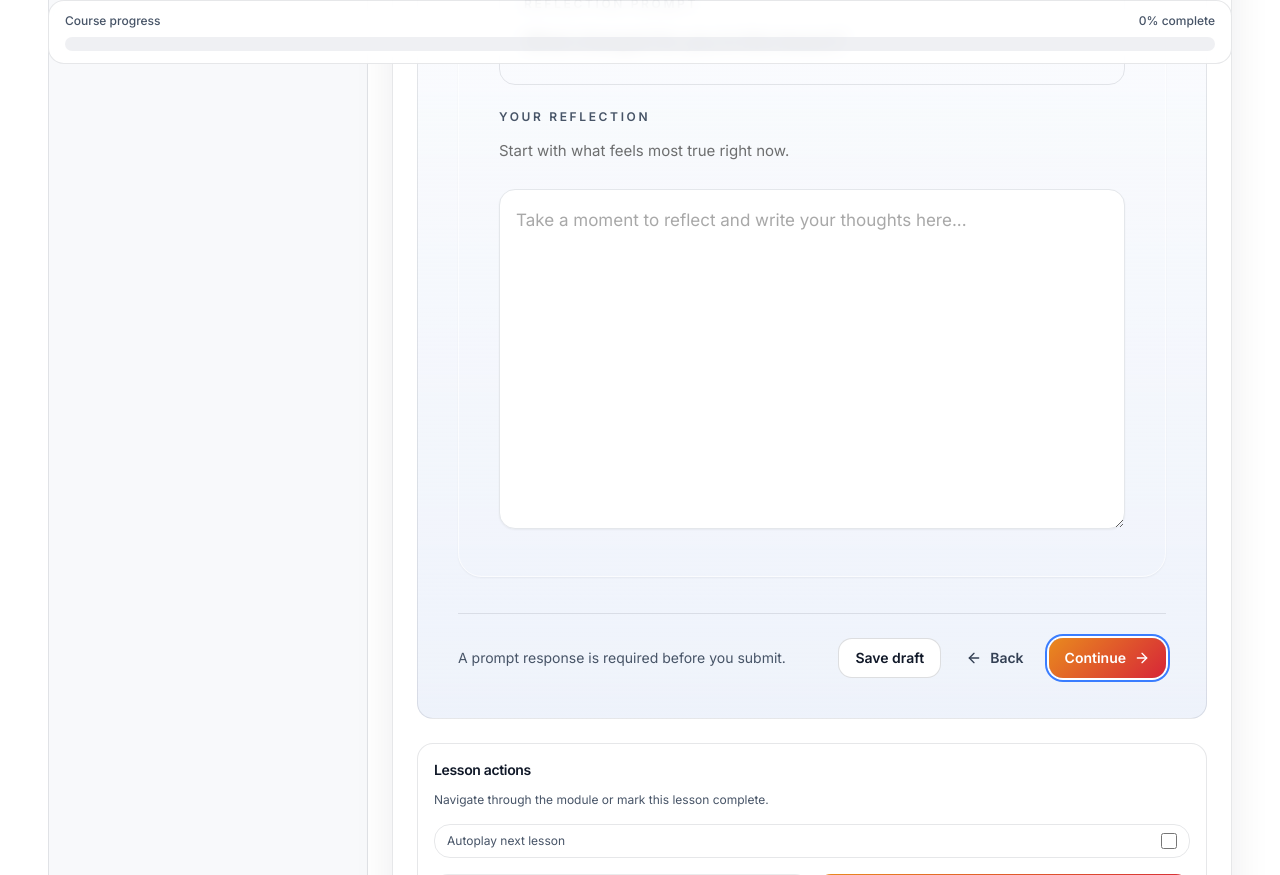
Test case: CoursePlayer progress integration › submits reflection responses, marks the lesson complete, and advances to the next lesson
Earlier steps of the test are not shown.
(page scrolled)
Type "I need to slow down." into the text box with placeholder "Take a moment to reflect and write your thoughts here...". click: (812,358)
box: [499,188,1125,528]
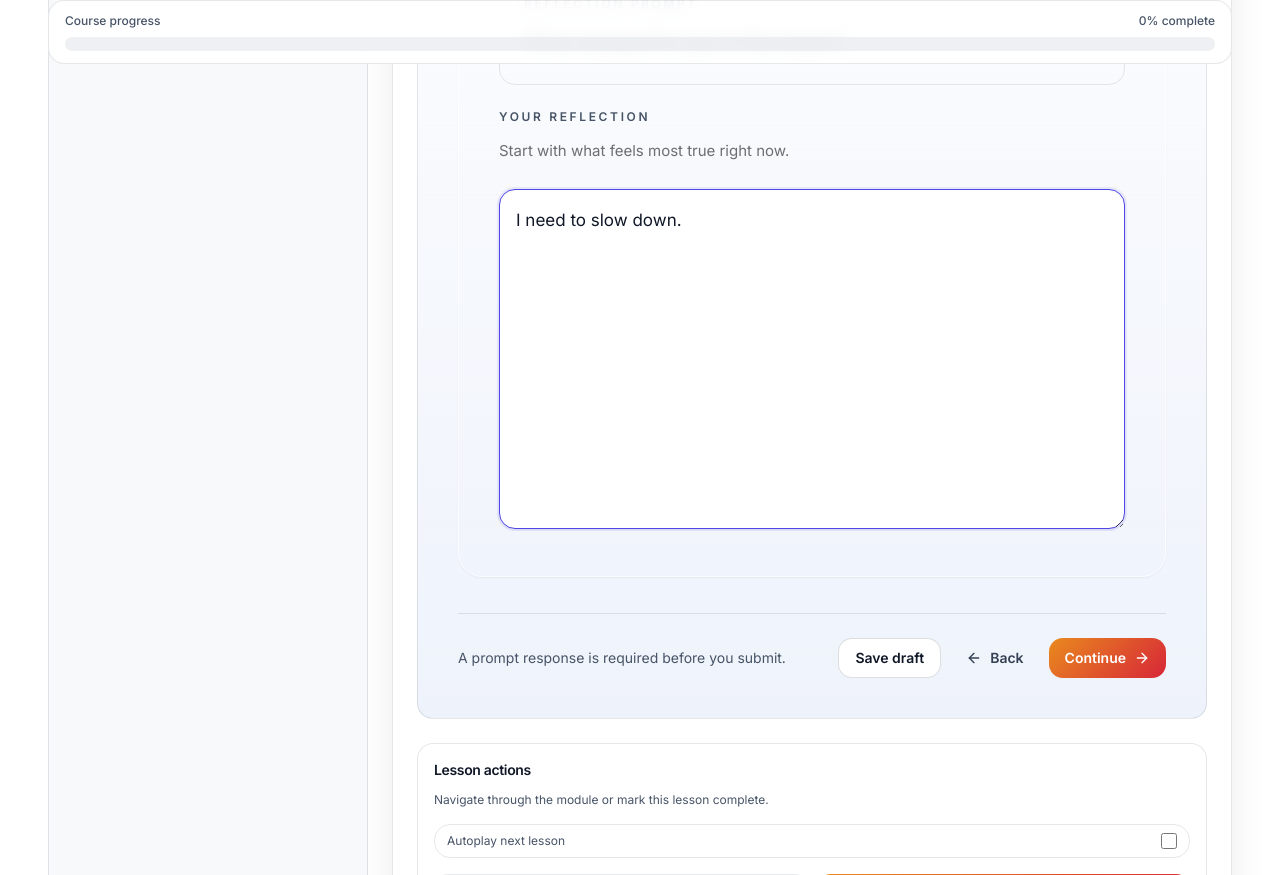
Click the button "Continue". click: (1107,658)
box: [1049,638,1166,678]
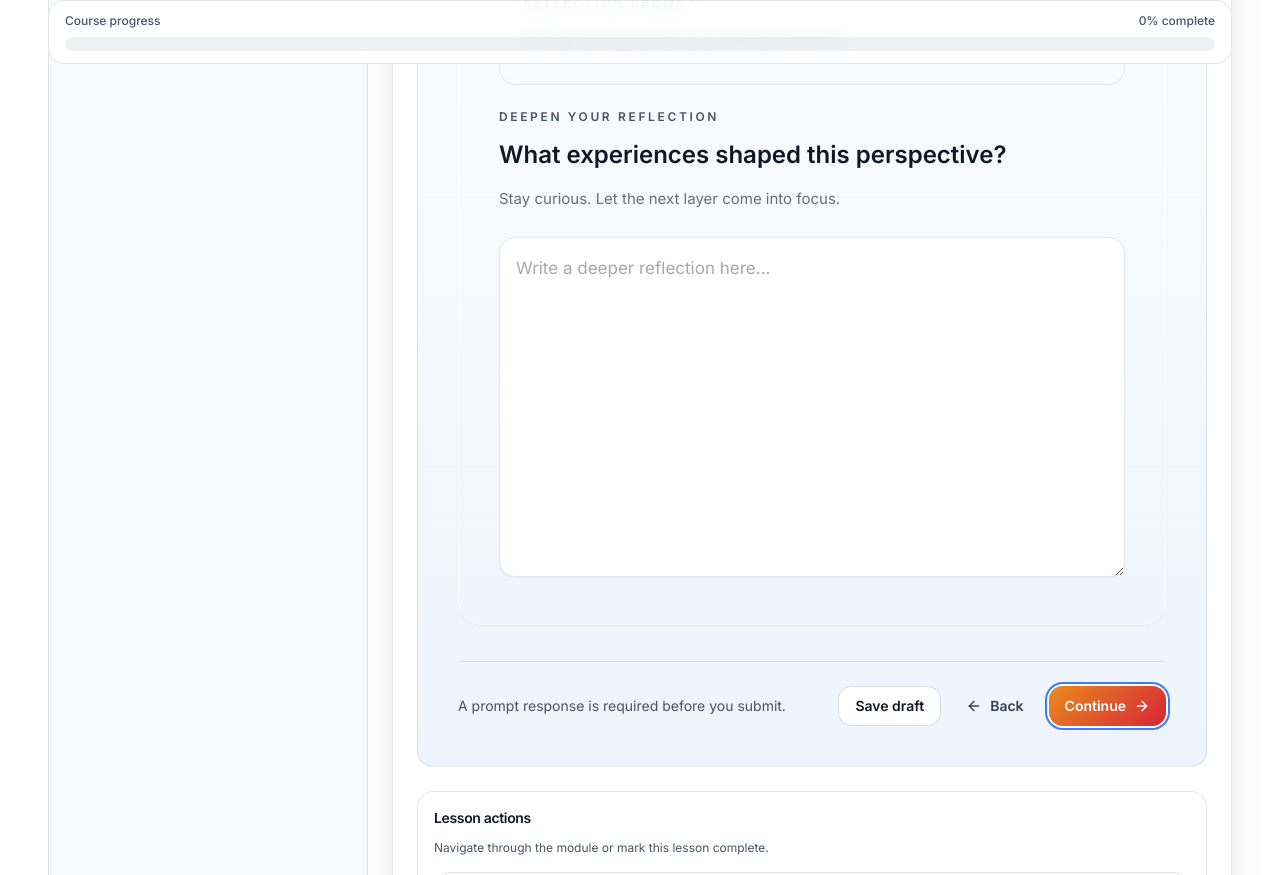
Click the button "Continue". click: (1107,706)
box: [1049,686,1166,726]
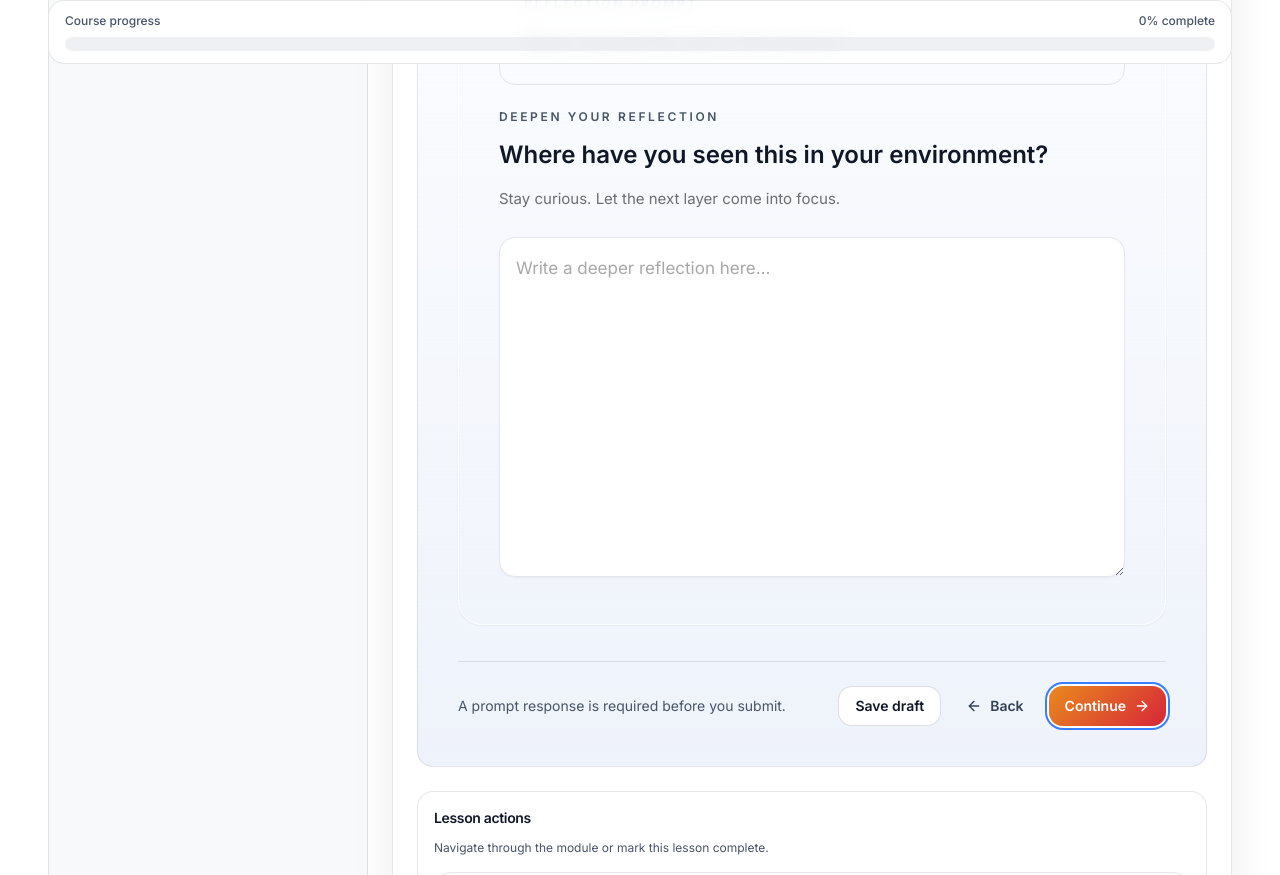
Click the button "Continue". click: (1107,706)
box: [1049,686,1166,726]
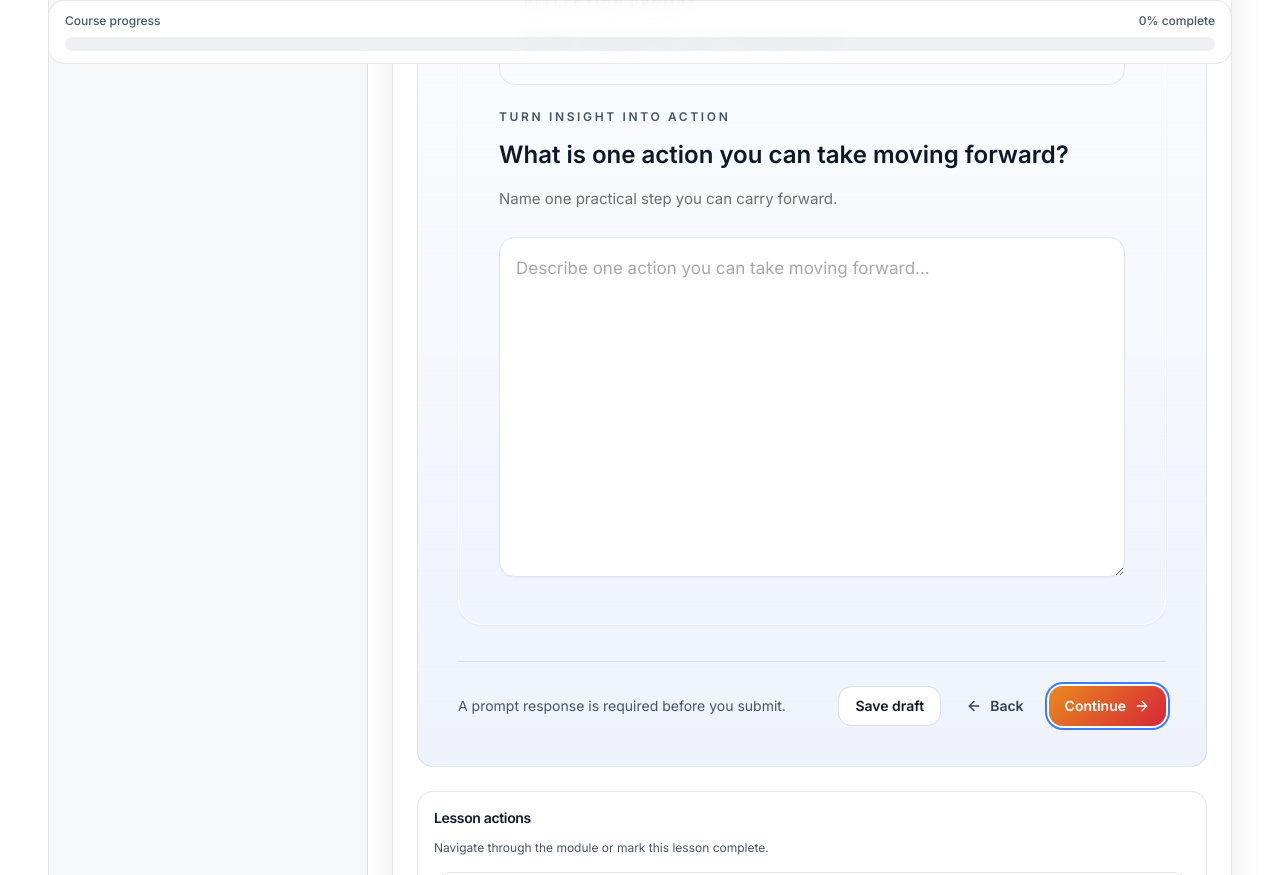
Click the button "Continue". click: (1107,706)
box: [1049,686,1166,726]
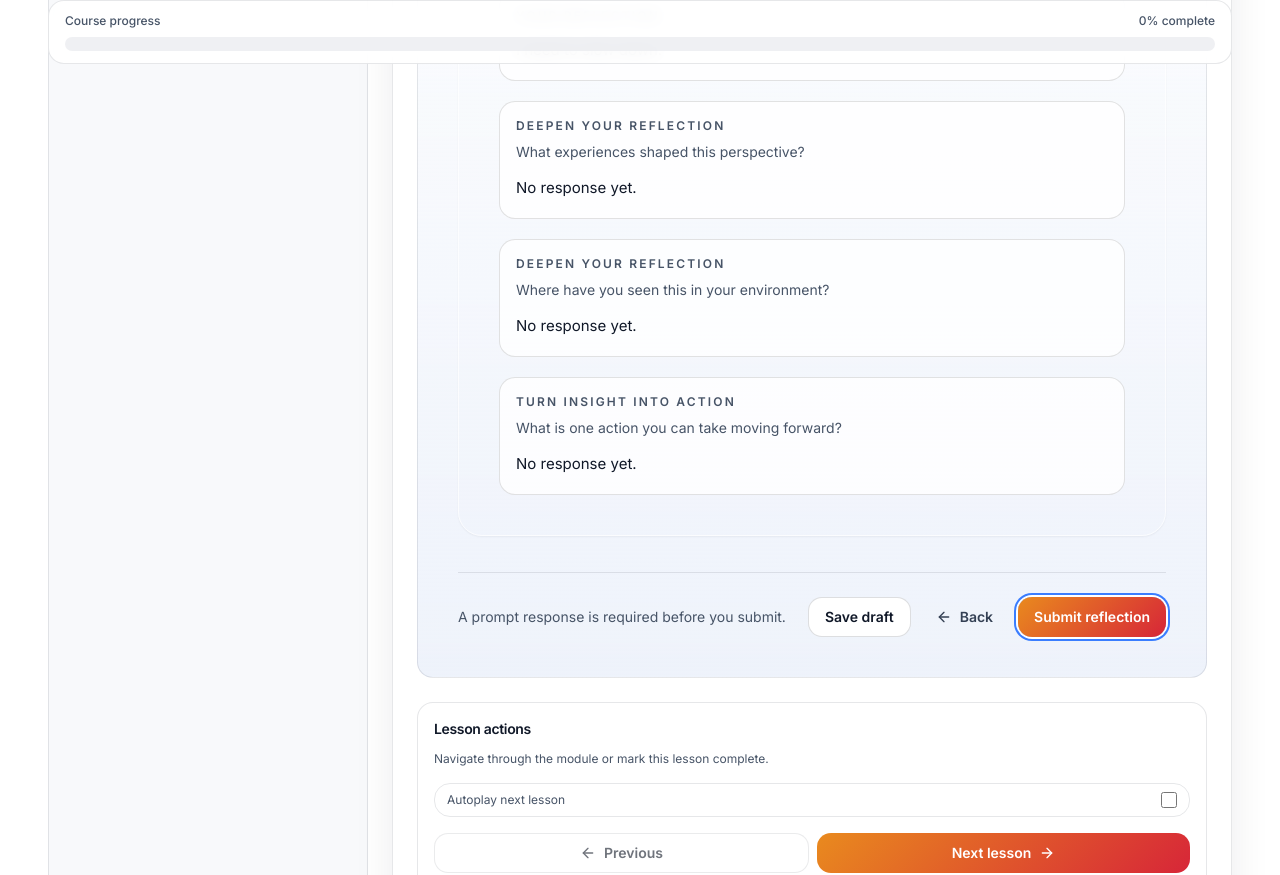
Click the button "Submit reflection". click: (1092,616)
box: [1018,596,1166,636]
(page scrolled)
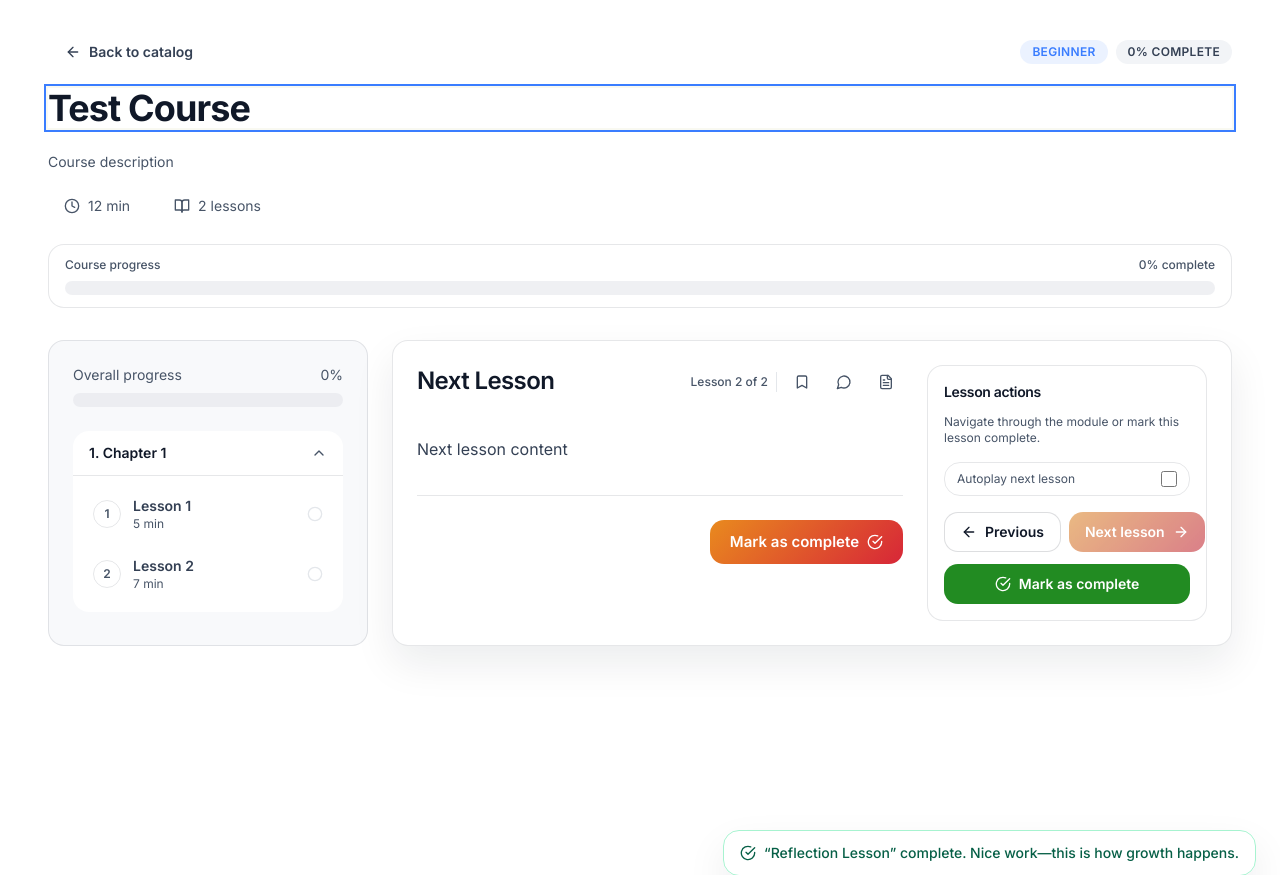
Check: the text "Next lesson content" is shown, box [417,439,568,459]
